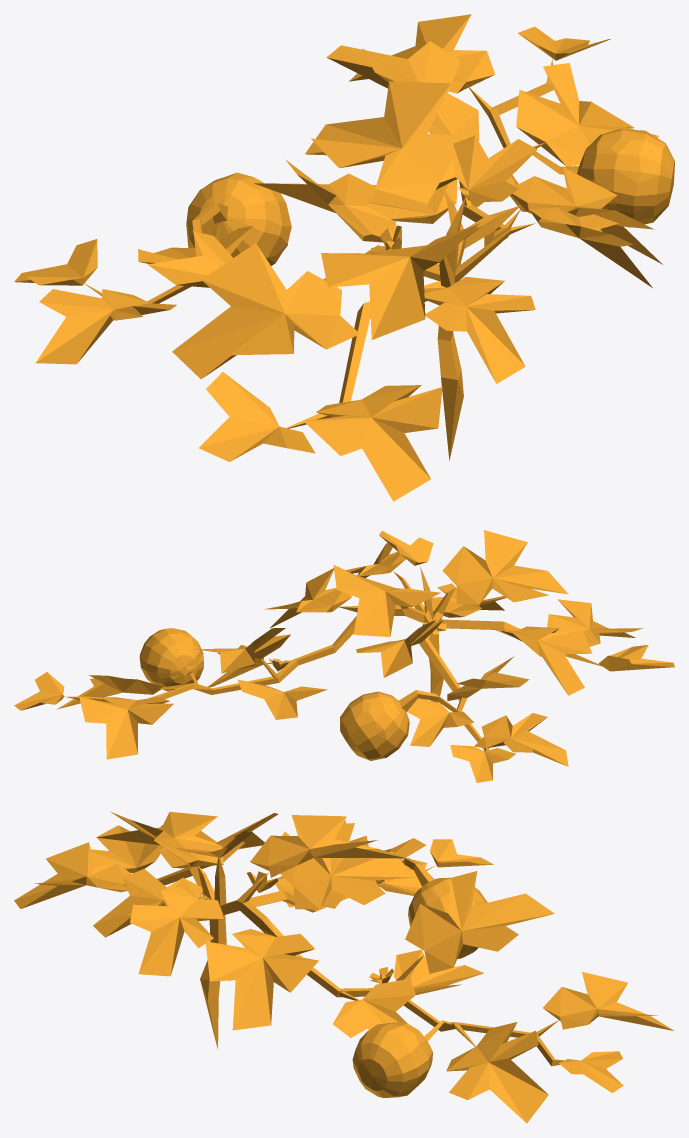
Rendered from SM_Watermelon_Plant_Flowering_B.fbx.
3 renders of one model, top to bottom at view 1: azimuth 30°, elevation 25°; view 2: azimuth 150°, elevation 25°; view 3: azimuth 270°, elevation 25°, orthographic. The views are drawn at different scales.
Visible parts, largest first — view 1: watermelon-plant-flowering-b; view 2: watermelon-plant-flowering-b; view 3: watermelon-plant-flowering-b.
Boxes of the visible parts, x1,y1,x2,y2 form: watermelon-plant-flowering-b: [14, 14, 674, 501]; watermelon-plant-flowering-b: [14, 530, 674, 782]; watermelon-plant-flowering-b: [14, 811, 673, 1123].
Size of the model in its own units: 1.42 by 0.5818 by 1.48.
